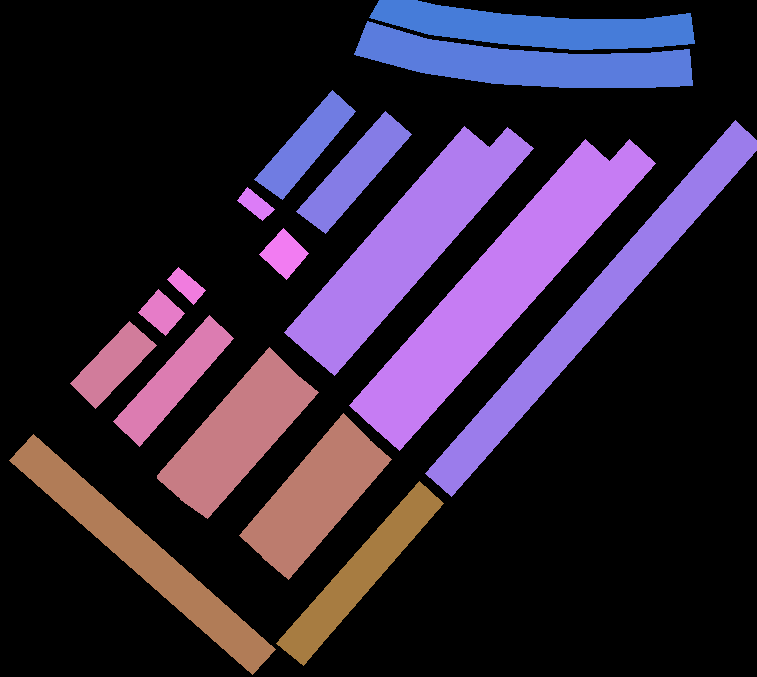parkingspot: (425, 120, 757, 496), (373, 139, 655, 450), (349, 139, 611, 429), (9, 434, 275, 674), (307, 127, 533, 375), (284, 126, 491, 354), (276, 481, 443, 665), (354, 21, 692, 87), (157, 347, 293, 500), (180, 370, 318, 518), (239, 413, 369, 558), (262, 437, 391, 579), (369, 0, 694, 49), (113, 315, 233, 446), (296, 111, 411, 233), (254, 90, 355, 199), (70, 321, 156, 408), (259, 228, 308, 279), (138, 289, 184, 335), (167, 267, 205, 304), (237, 187, 274, 220)
